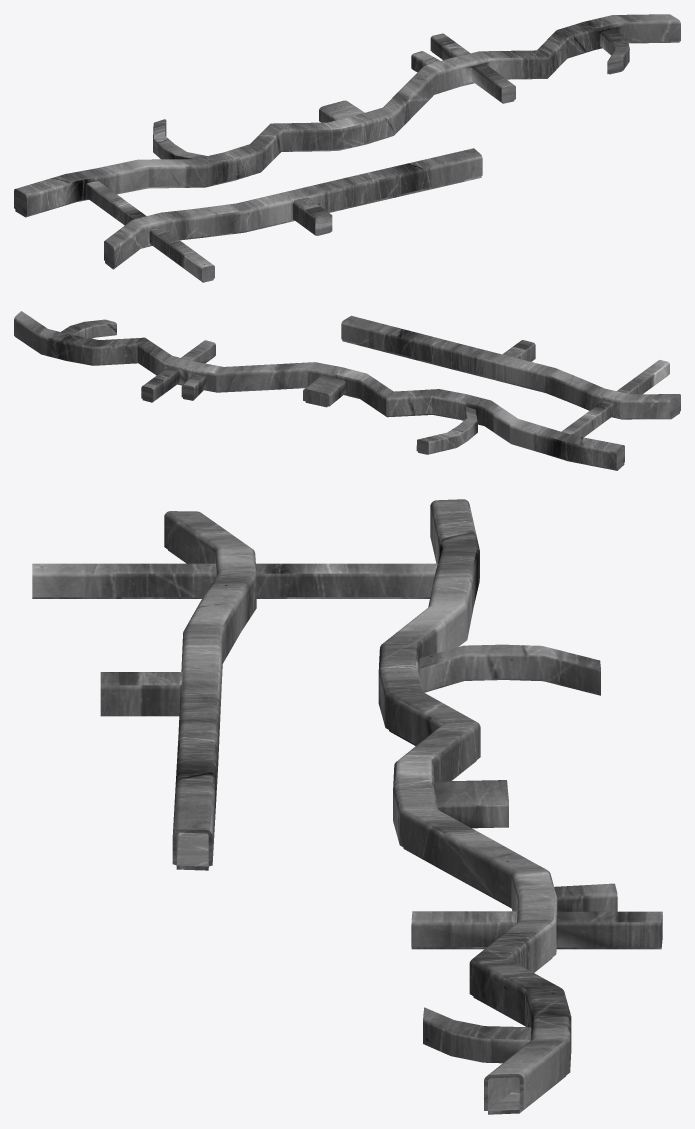
File: Tunnel 1.fbx
3 renders of one model, top to bottom at view 1: azimuth 30°, elevation 25°; view 2: azimuth 150°, elevation 25°; view 3: azimuth 270°, elevation 25°, orthographic. The views are drawn at different scales.
Parts seen in each view (by area): view 1: Plane.023; view 2: Plane.023; view 3: Plane.023.
Boxes of the visible parts, x1,y1,x2,y2 form: Plane.023: (14, 14, 680, 282); Plane.023: (14, 311, 680, 470); Plane.023: (32, 499, 662, 1114).
Size of the model in its own units: 6860 by 227 by 3169.
